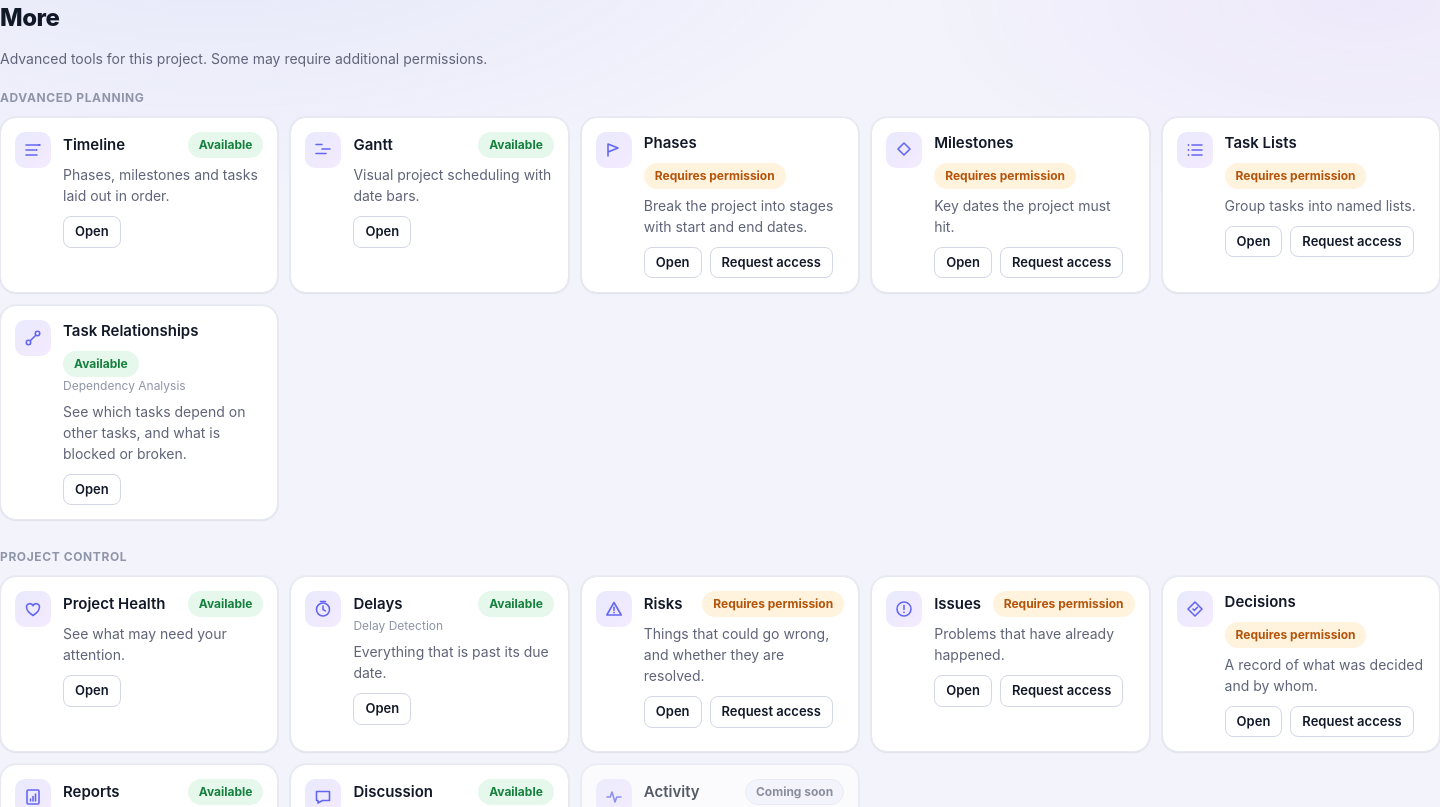
AdvancedFeaturesPage › marks a feature as requiring permission for a VIEWER and explains how access is granted
Expected: the 1st text "Requires permission" is shown, x1=644 y1=162 x2=786 y2=188
Click the 2nd button "Request access".
click(771, 262)  # box x1=710 y1=246 x2=833 y2=278
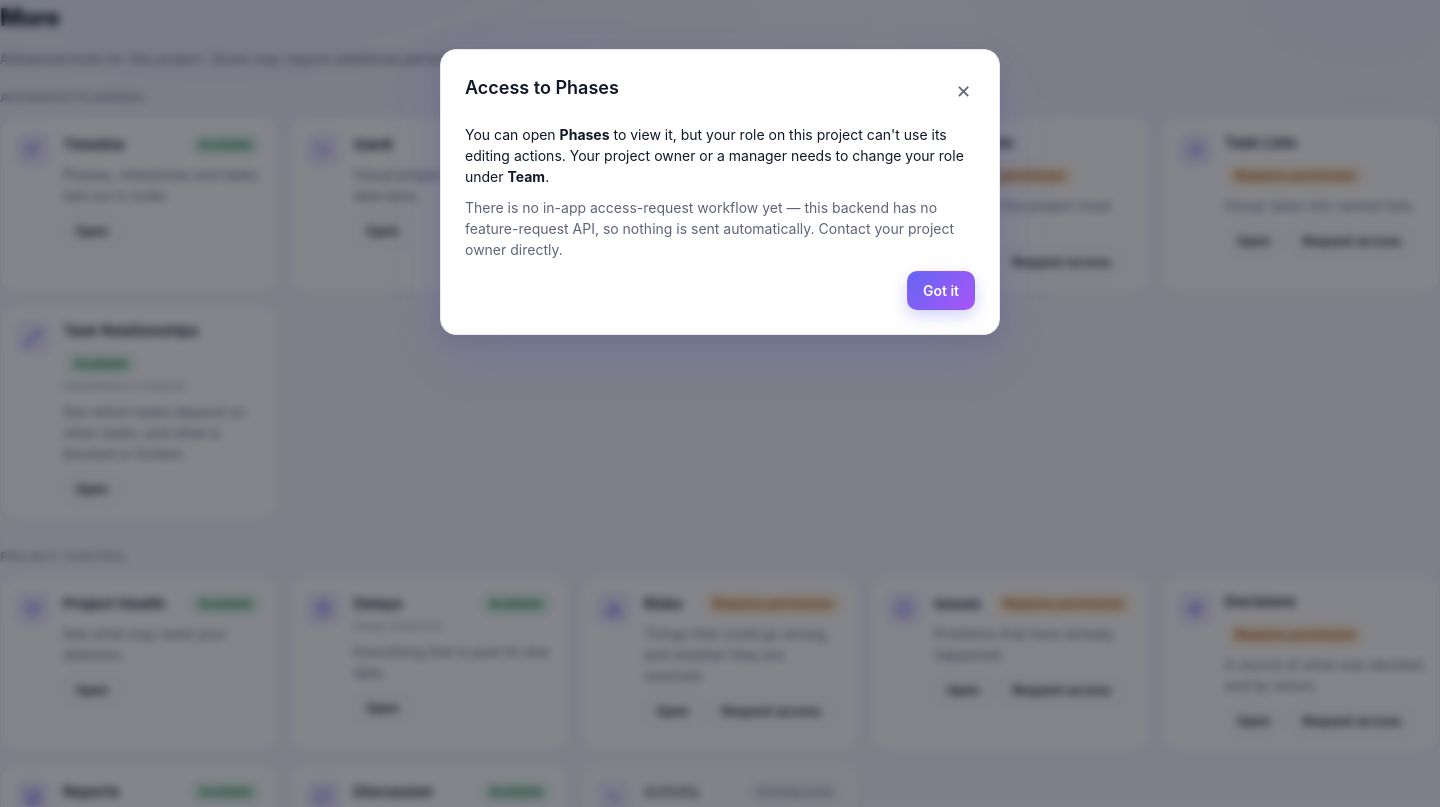
Result: the text "no in-app access-request workflow yet" is shown at x1=465 y1=199 x2=954 y2=258
